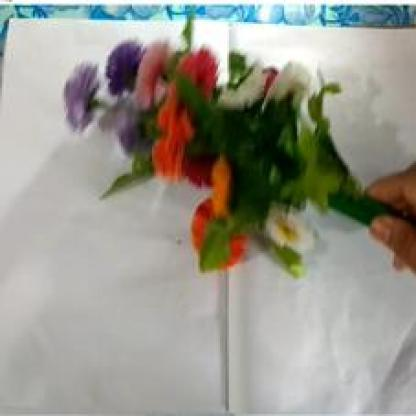flower: (65, 18, 359, 326)
